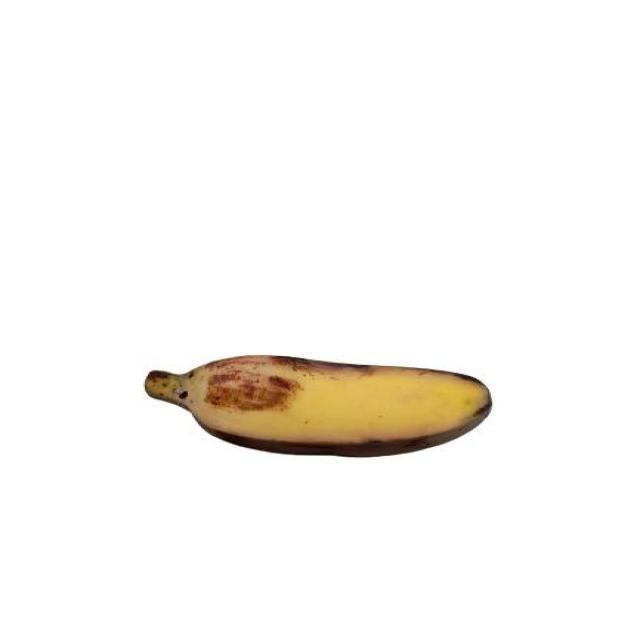Banana: (135, 351, 505, 459)
